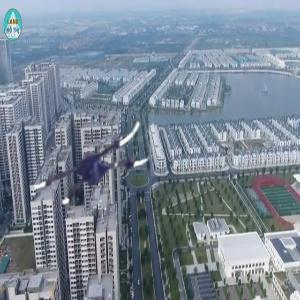drone: (29, 95, 153, 219)
